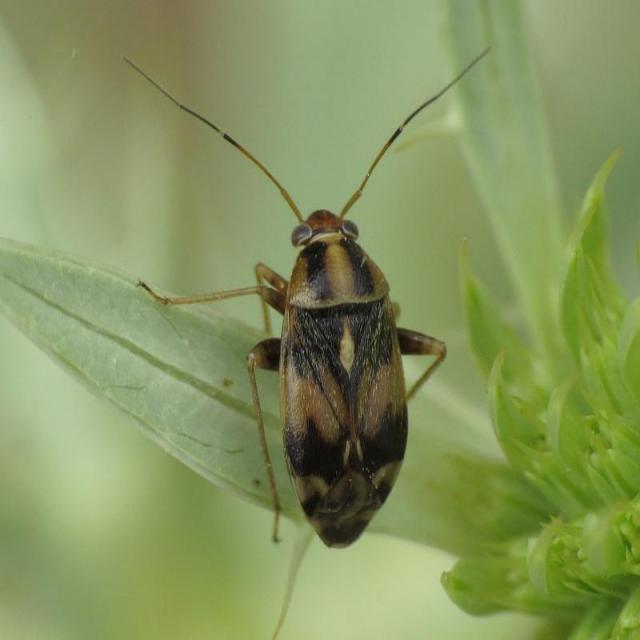Miridae-Adult-: (119, 37, 466, 557)
